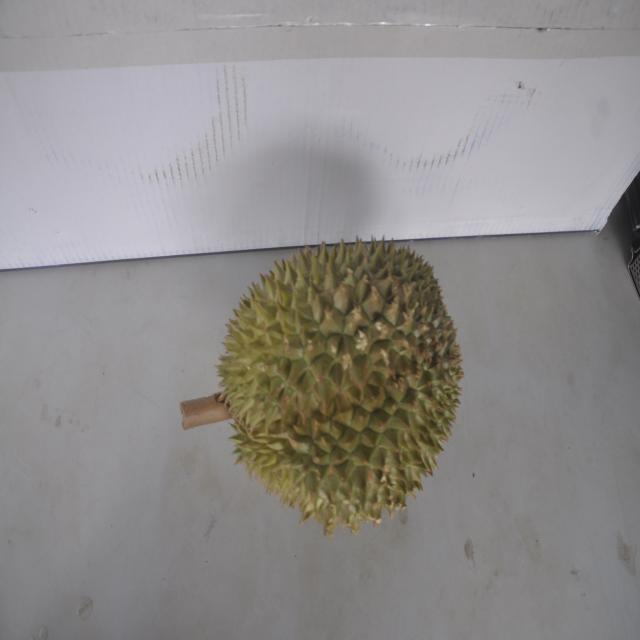mature: (199, 231, 456, 533)
